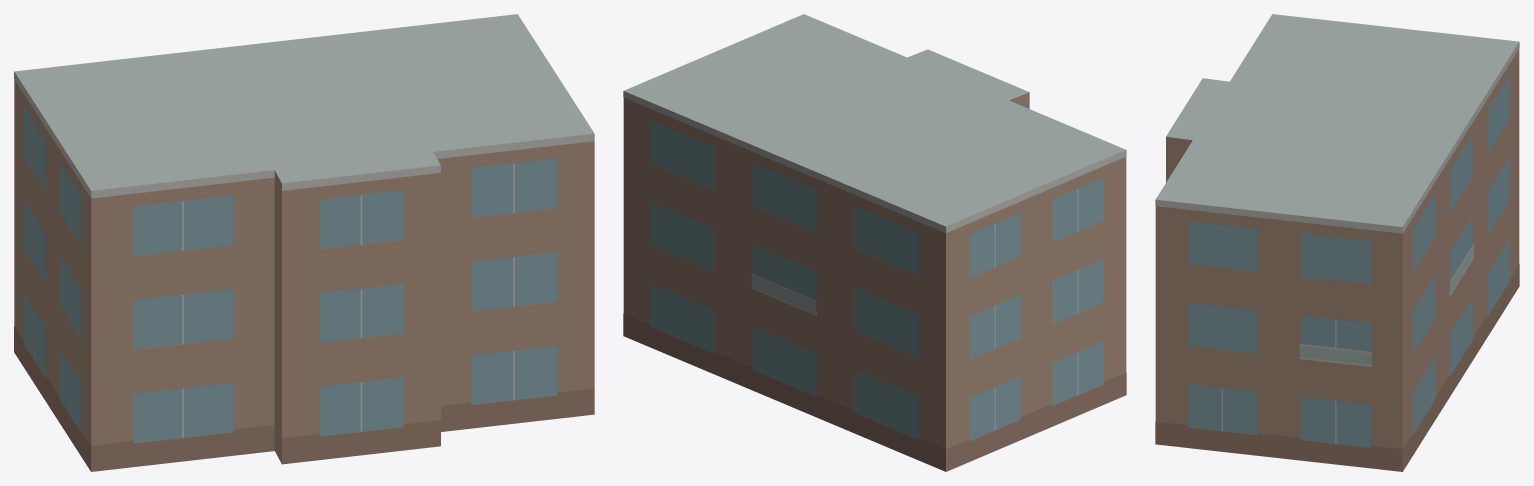
The model's file is survey-upis-32503480.glb.
3 views of the same model, side by side, from view 1: azimuth 30°, elevation 25°; view 2: azimuth 150°, elevation 25°; view 3: azimuth 270°, elevation 25° (orthographic). The views are drawn at different scales.
Visible parts, largest first — view 1: survey-upis-32503480.tmp; view 2: survey-upis-32503480.tmp; view 3: survey-upis-32503480.tmp.
Boxes of the visible parts, x1,y1,x2,y2 form: survey-upis-32503480.tmp: (14,14,594,471); survey-upis-32503480.tmp: (623,14,1126,471); survey-upis-32503480.tmp: (1155,14,1519,471).
Bounding box in the file's own units: 17.1 × 9.15 × 12.34.
